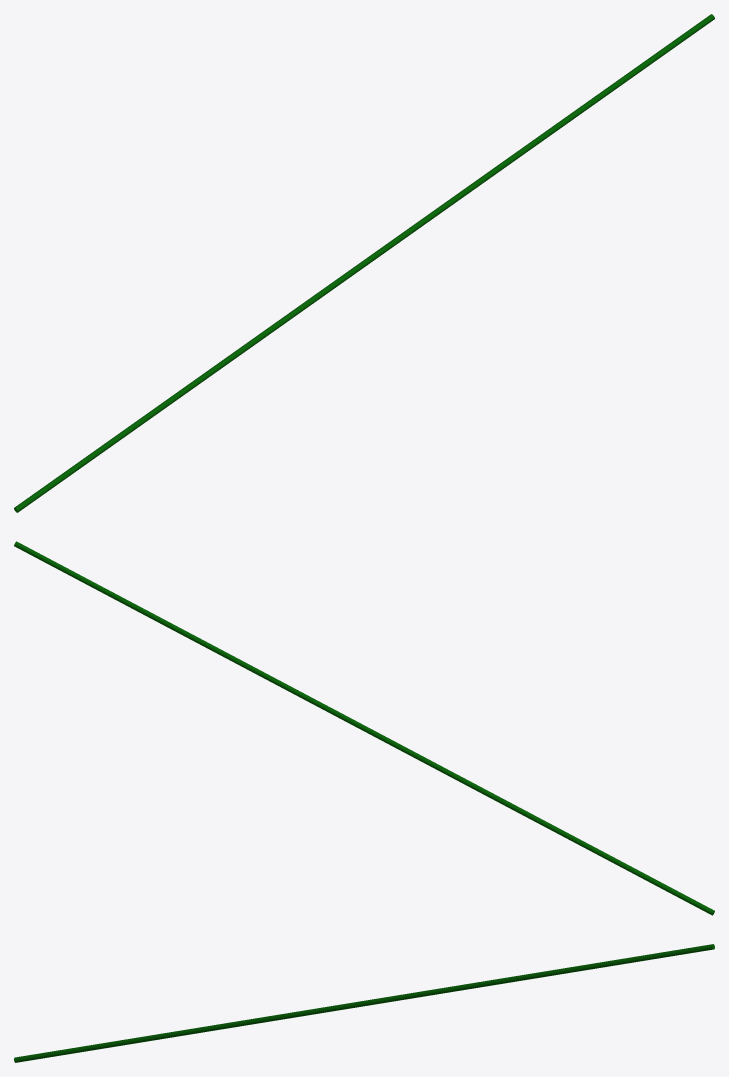
Rendered from Event_134295681_jet_1.fbx.
The picture shows the model from 3 angles, top to bottom: view 1: azimuth 30°, elevation 25°; view 2: azimuth 150°, elevation 25°; view 3: azimuth 330°, elevation 25°; orthographic projection. The views are drawn at different scales.
Parts seen in each view (by area): view 1: Model; view 2: Model; view 3: Model.
Part boxes in pixels (<box>): Model: <box>14,14,714,512</box>; Model: <box>14,541,714,915</box>; Model: <box>14,944,714,1062</box>.
Bounding box in the file's own units: 5.54 × 1.98 × 0.6745.
